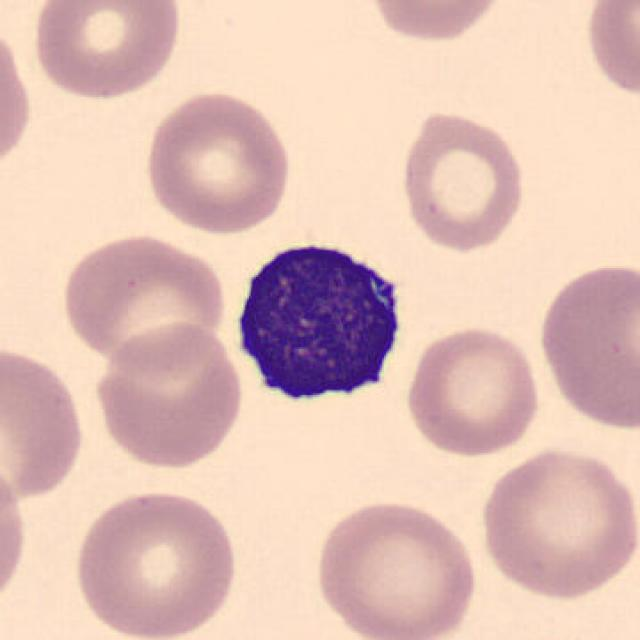Lymphocyte: (224, 224, 414, 420)
RBC: (69, 485, 242, 640), (475, 443, 638, 603), (55, 227, 231, 374), (311, 495, 480, 640), (89, 317, 247, 471), (141, 86, 295, 236), (394, 106, 530, 256), (402, 323, 544, 460), (534, 257, 638, 434), (28, 0, 184, 102), (0, 340, 89, 504), (363, 0, 510, 46), (0, 16, 36, 185), (582, 0, 638, 104), (0, 453, 32, 617)
